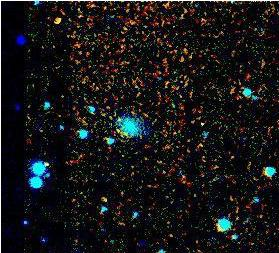star: (37, 152, 67, 182)
